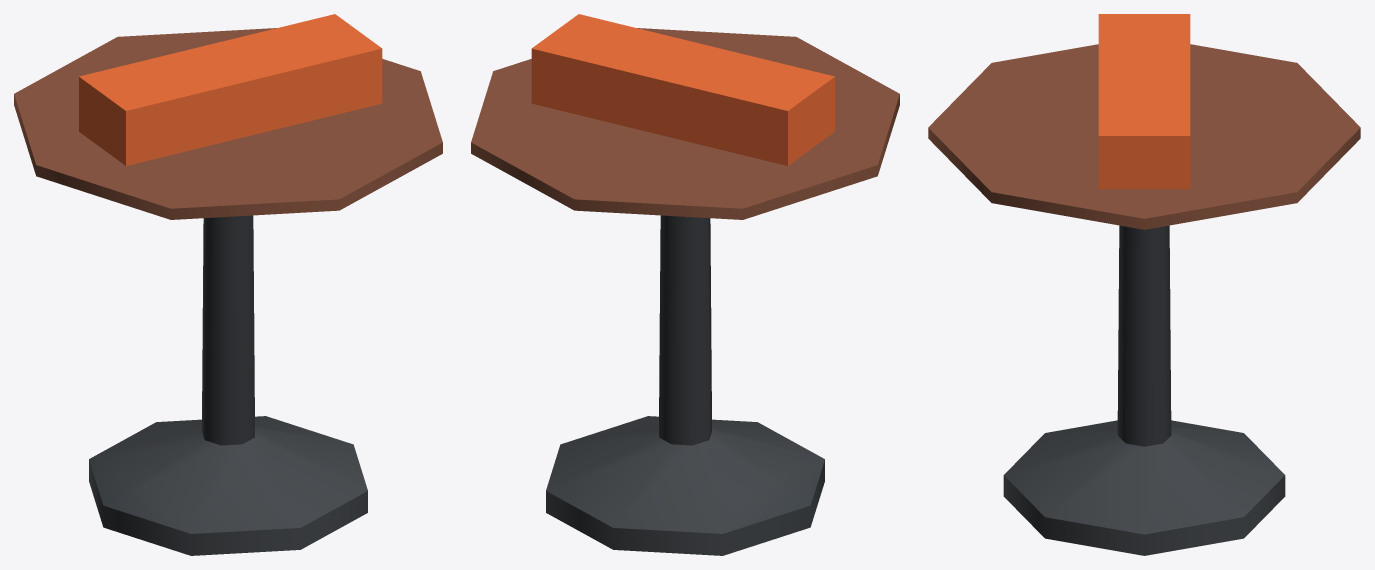
The model's file is SM_GameArea_Table_01.fbx.
3 views of the same model, side by side, from view 1: azimuth 30°, elevation 25°; view 2: azimuth 150°, elevation 25°; view 3: azimuth 270°, elevation 25° (orthographic). The views are drawn at different scales.
Visible parts, largest first — view 1: SM_GameArea_Table_01; view 2: SM_GameArea_Table_01; view 3: SM_GameArea_Table_01.
Part boxes in pixels (<box>): SM_GameArea_Table_01: <box>14,14,442,555</box>; SM_GameArea_Table_01: <box>471,14,899,555</box>; SM_GameArea_Table_01: <box>928,14,1360,555</box>.
Size of what is drawn, in the model's own units: 312 by 336 by 312.
